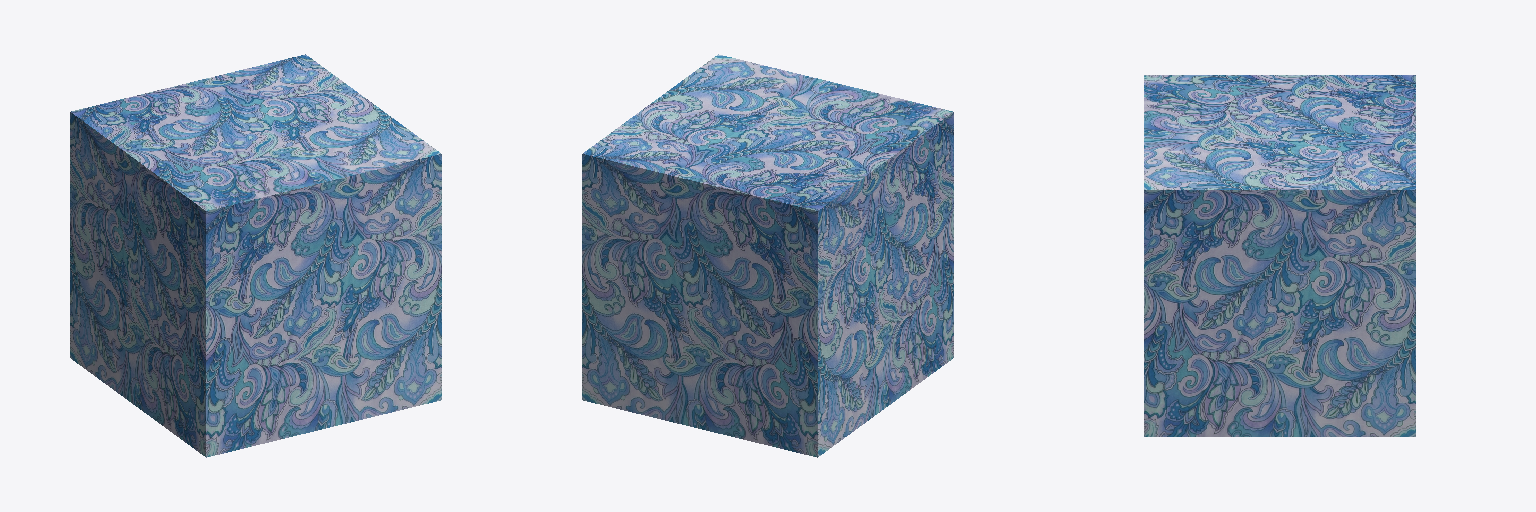
3 renders of one model, left to right at view 1: azimuth 30°, elevation 25°; view 2: azimuth 150°, elevation 25°; view 3: azimuth 270°, elevation 25°, orthographic.
Parts seen in each view (by area): view 1: cube_Cube; view 2: cube_Cube; view 3: cube_Cube.
Part boxes in pixels (x1,y1,x2,y2): cube_Cube: (70,54,441,457); cube_Cube: (582,54,953,457); cube_Cube: (1144,75,1415,436).
Size of the model in its own units: 2 by 2 by 2.
1 materials, 1 textured.